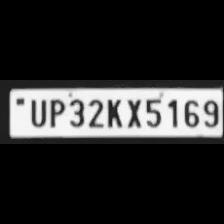1: (164, 96, 180, 128)
2: (84, 96, 104, 128)
3: (65, 96, 84, 128)
5: (141, 96, 163, 128)
6: (180, 97, 200, 129)
9: (200, 97, 220, 129)
K: (104, 97, 122, 129)
P: (45, 96, 65, 128)
U: (27, 97, 47, 127)
X: (122, 96, 142, 128)
